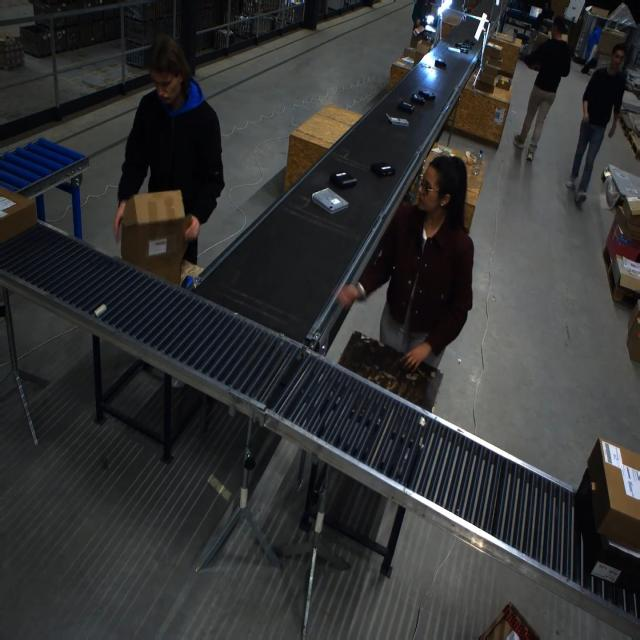box: (118, 189, 189, 285), (584, 441, 640, 556), (0, 182, 37, 247)
product: (311, 187, 347, 213), (368, 162, 398, 182), (329, 171, 357, 188), (386, 113, 408, 126), (396, 101, 415, 113), (417, 89, 435, 100), (410, 93, 425, 104), (434, 57, 447, 67), (447, 46, 462, 53), (455, 42, 469, 49), (463, 39, 475, 46), (459, 48, 468, 53)
